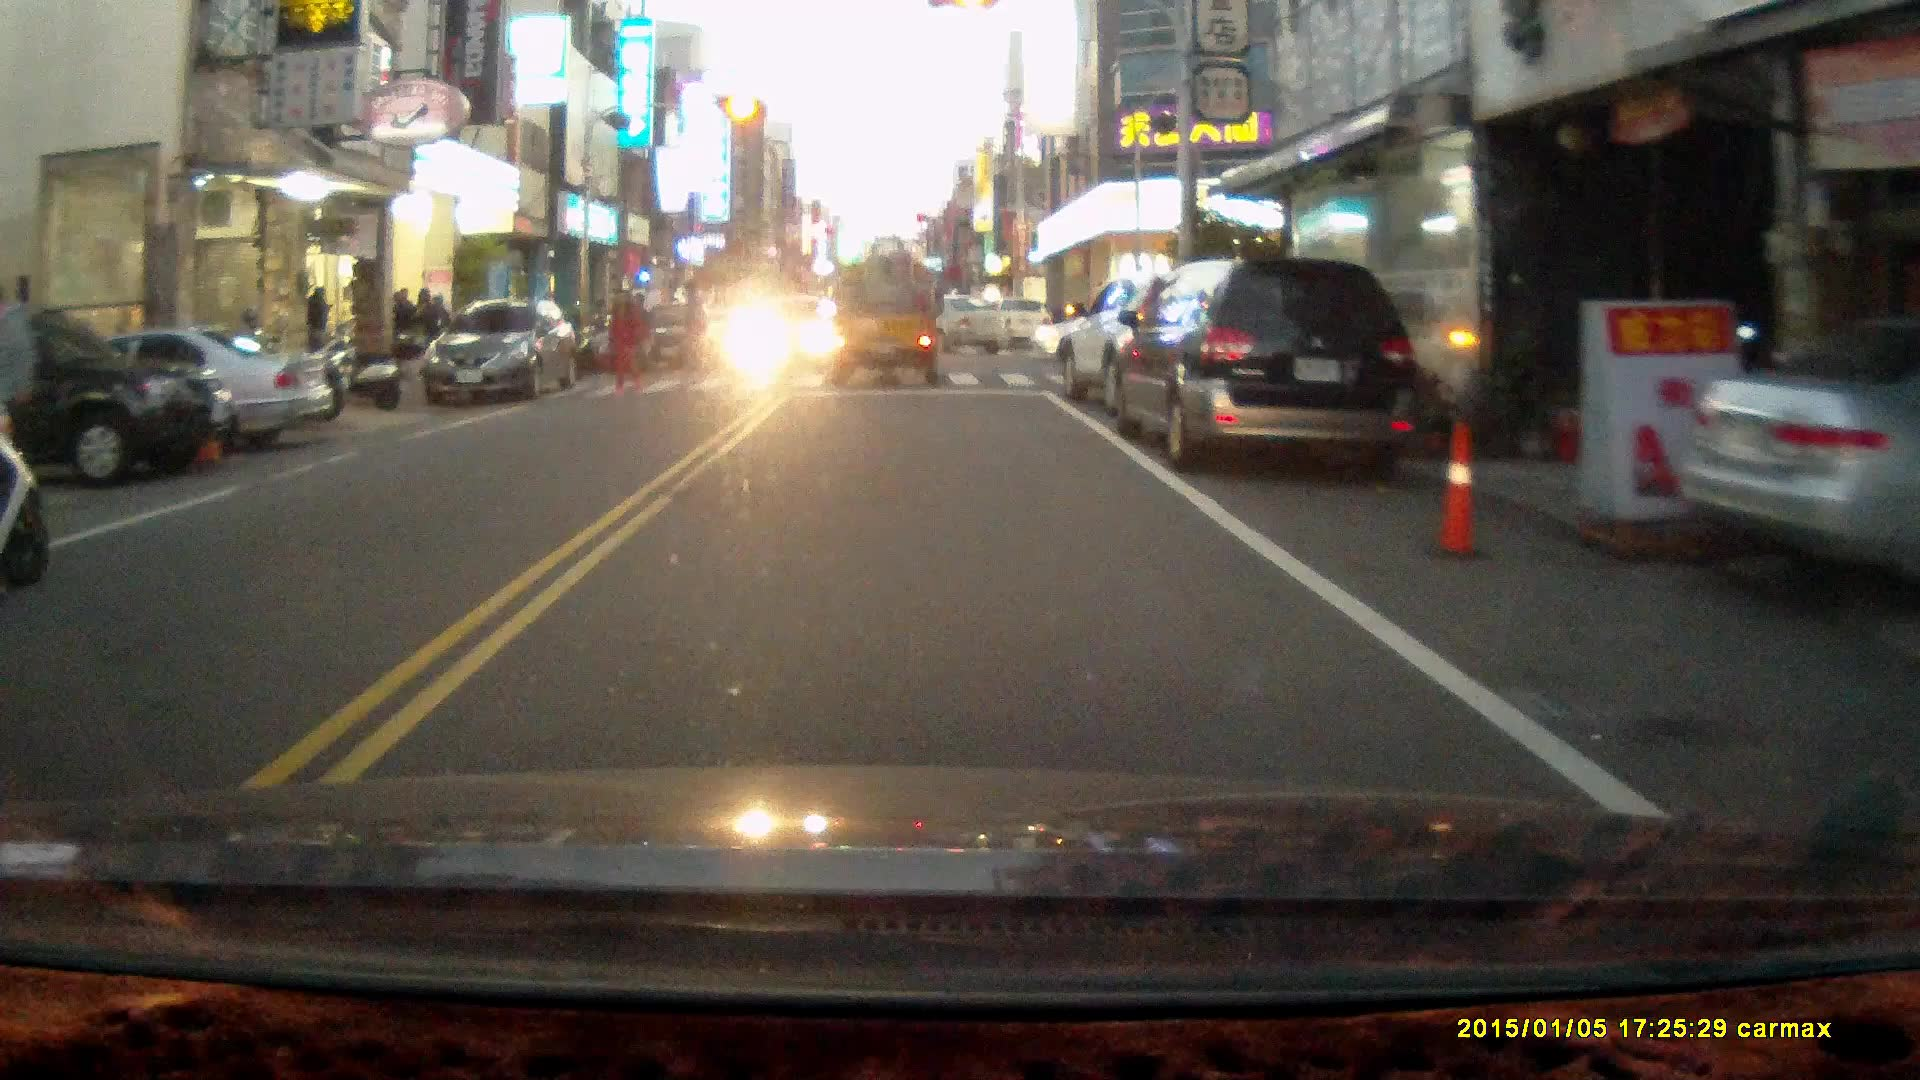pedestrian: (0, 278, 36, 485), (605, 283, 639, 390), (303, 282, 333, 367), (588, 319, 615, 375)
vehicle: (1102, 256, 1420, 471), (1679, 334, 1920, 559), (1, 298, 237, 489), (19, 327, 333, 452), (1058, 274, 1280, 425), (820, 236, 949, 389), (428, 301, 583, 405), (885, 297, 1016, 358), (632, 302, 727, 369)
